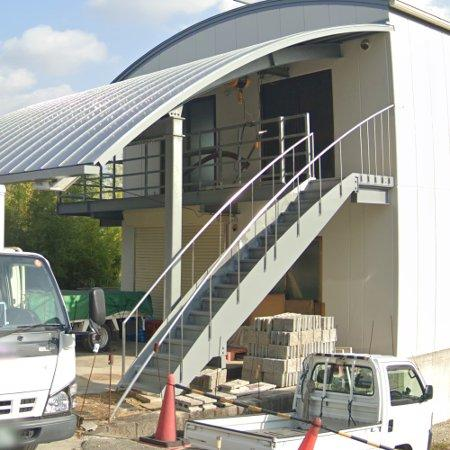stairs: (120, 106, 395, 393)
